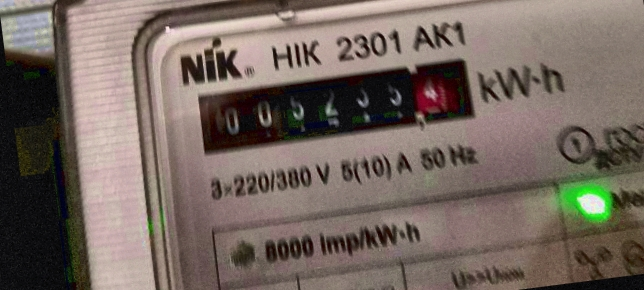0: (252, 94, 276, 129), (220, 102, 242, 135)
2: (317, 83, 342, 119)
3: (348, 76, 376, 112)
4: (417, 68, 443, 106)
5: (382, 71, 408, 110), (285, 88, 308, 123)
screen: (178, 42, 489, 167)
